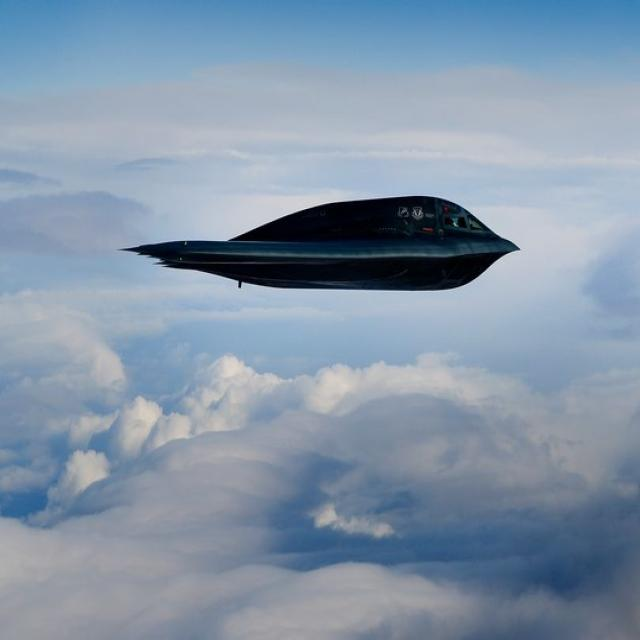MIL_Plane: (123, 67, 514, 164)
